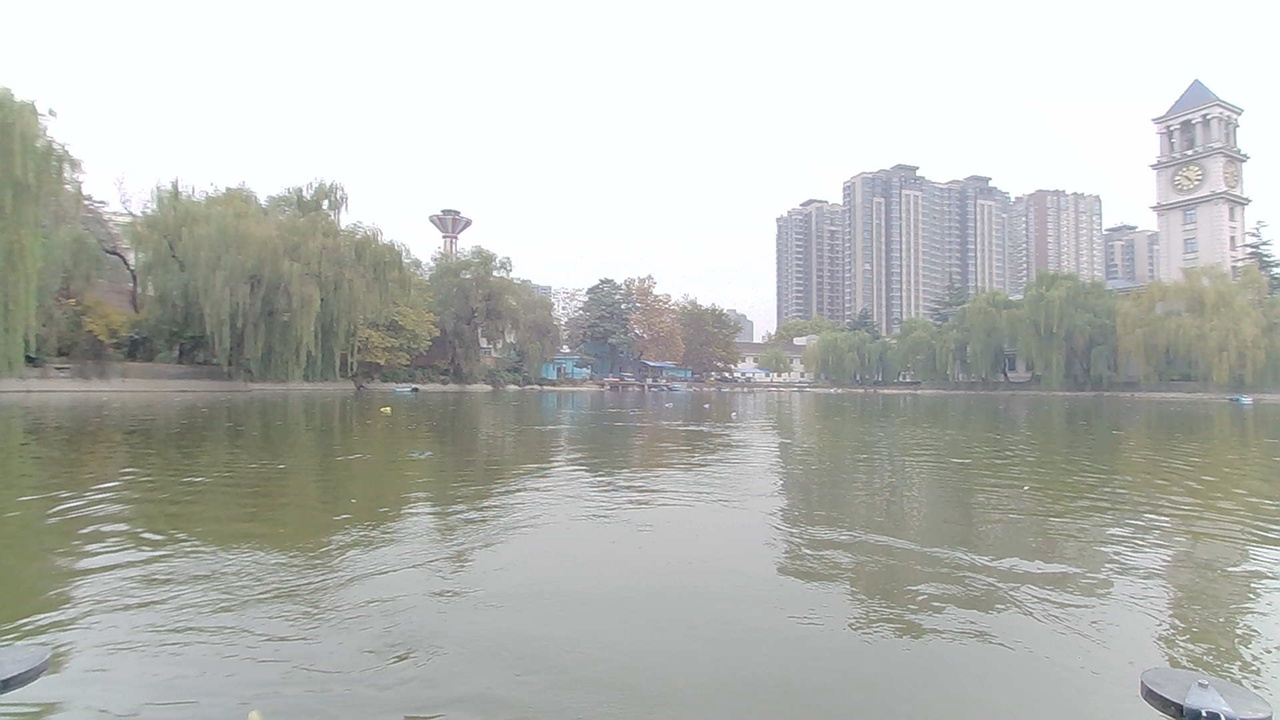bottle: (371, 399, 400, 420), (659, 392, 682, 413), (694, 396, 718, 415), (725, 407, 749, 425)
